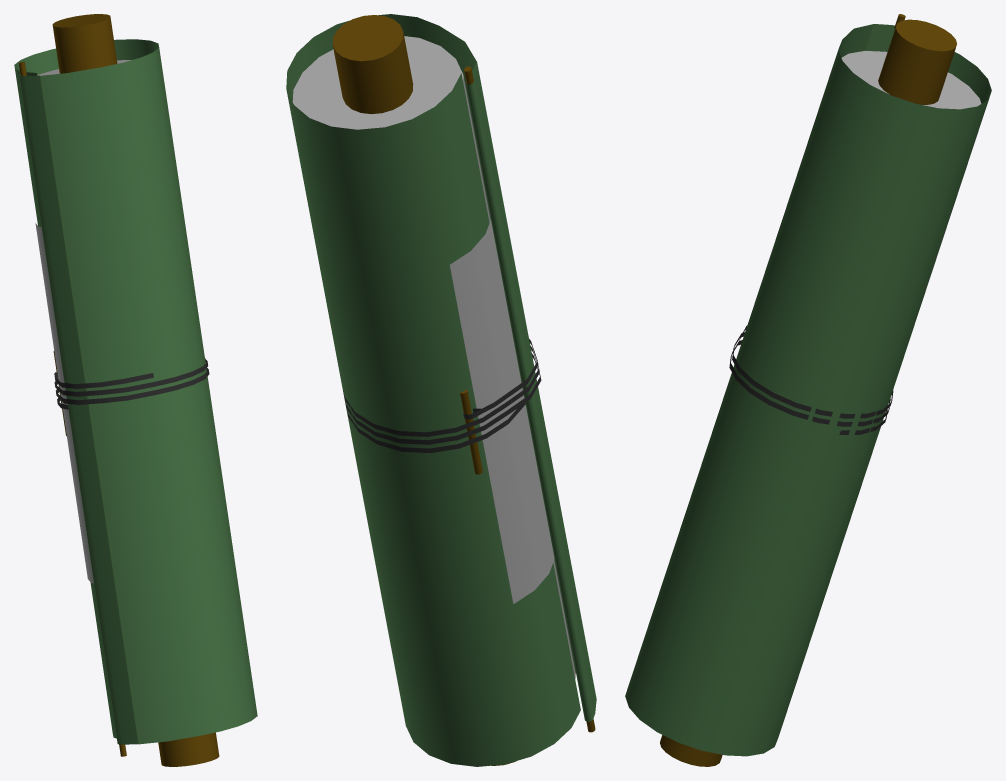
File: makimono (1).fbx
The picture shows the model from 3 angles, left to right: view 1: azimuth 30°, elevation 25°; view 2: azimuth 150°, elevation 25°; view 3: azimuth 270°, elevation 25°; orthographic projection. The views are drawn at different scales.
Visible parts, largest first — view 1: makimono1; view 2: makimono1; view 3: makimono1.
Boxes of the visible parts, bbox=[...] form: makimono1: bbox=[14, 14, 257, 766]; makimono1: bbox=[286, 14, 596, 766]; makimono1: bbox=[625, 14, 991, 766].
Bounding box in the file's own units: 2.11 × 9.74 × 4.42.
